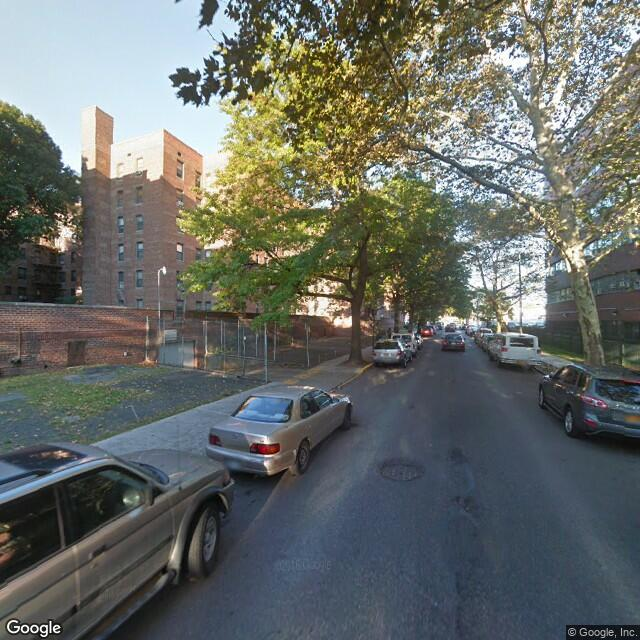litter: (228, 381, 246, 399)
